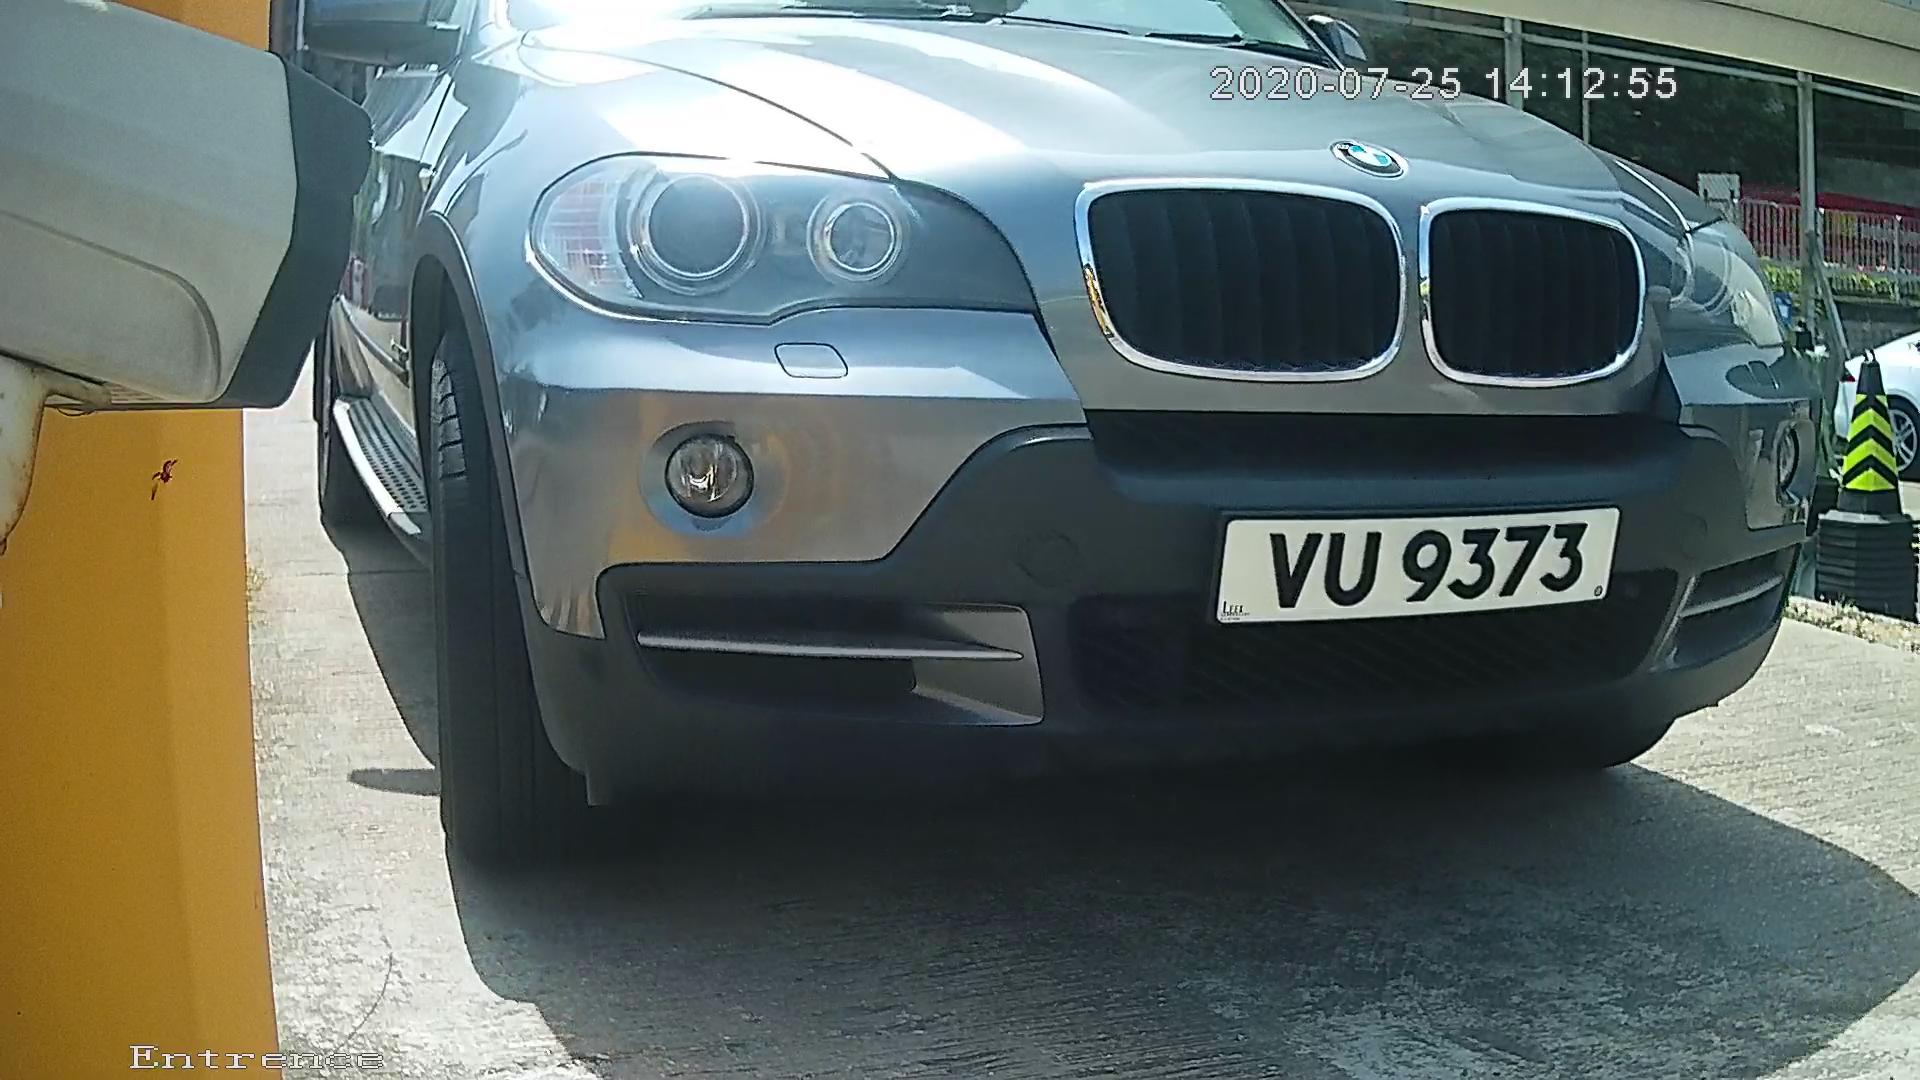Car: (112, 1, 1920, 892)
License Plate: (1183, 492, 1638, 647)
